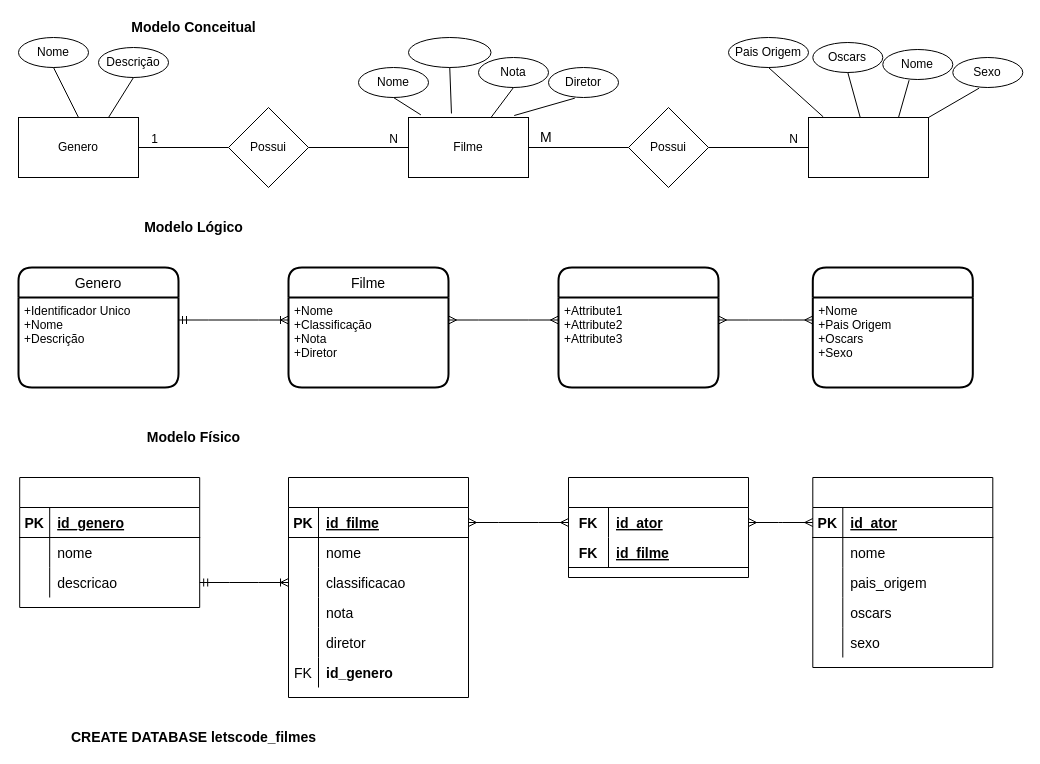
The diagram is 1040 pixels wide and 764 high, and some of its shapes have lost their labels. Each missing label, with the box of its shape:
Ator: (811, 266, 973, 388)
Atores: (808, 116, 928, 178)
Classificação: (408, 36, 491, 68)
letscode_ator: (812, 476, 993, 668)
letscode_filme: (288, 476, 468, 698)
letscode_genero: (19, 476, 200, 608)
letscode_participacoes: (568, 476, 748, 578)
Participaçoes: (557, 266, 719, 388)
